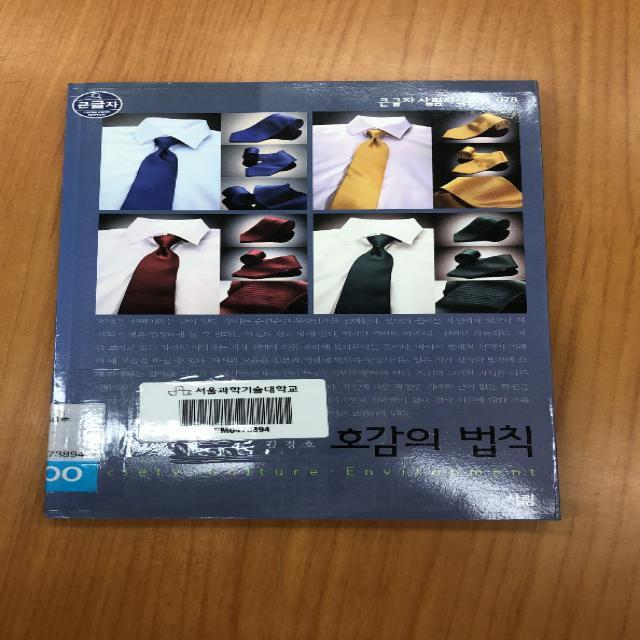Wornout: (183, 512, 257, 523), (42, 512, 116, 523)
